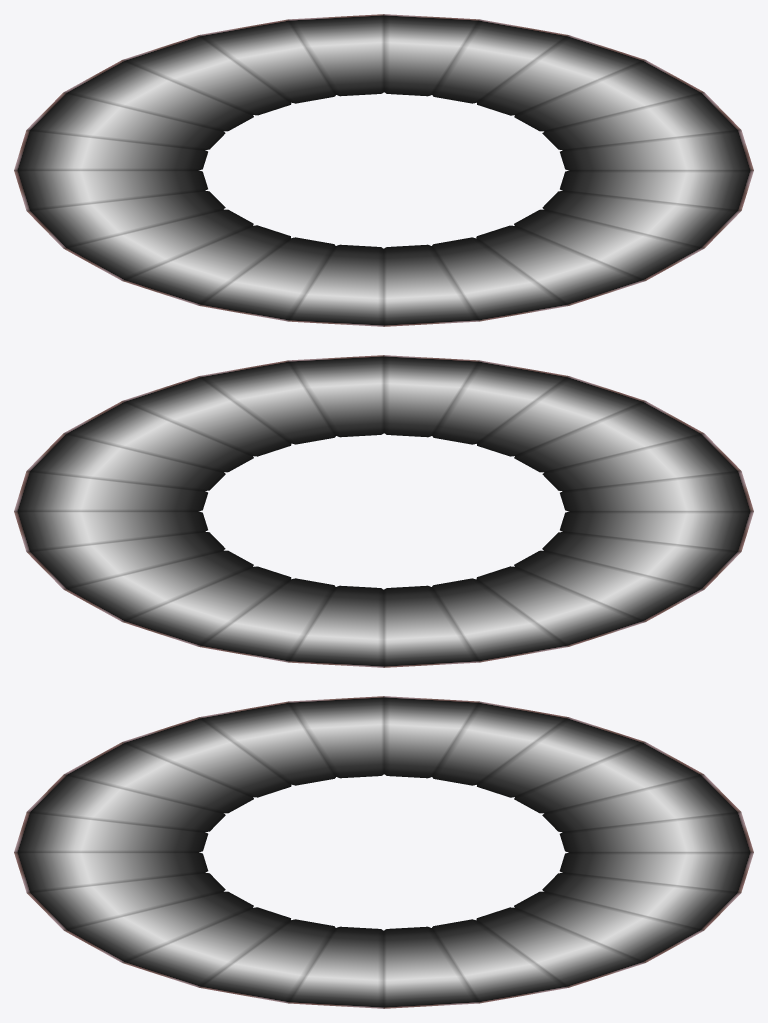
The picture shows the model from 3 angles, top to bottom: view 1: azimuth 30°, elevation 25°; view 2: azimuth 150°, elevation 25°; view 3: azimuth 270°, elevation 25°; orthographic projection.
Parts seen in each view (by area): view 1: T1L5M004_17; view 2: T1L5M004_17; view 3: T1L5M004_17.
Boxes of the visible parts, x1,y1,x2,y2 form: T1L5M004_17: (14,14,753,326); T1L5M004_17: (14,355,753,667); T1L5M004_17: (14,696,753,1008).
Bounding box in the file's own units: 3.43 × 0 × 3.43.
